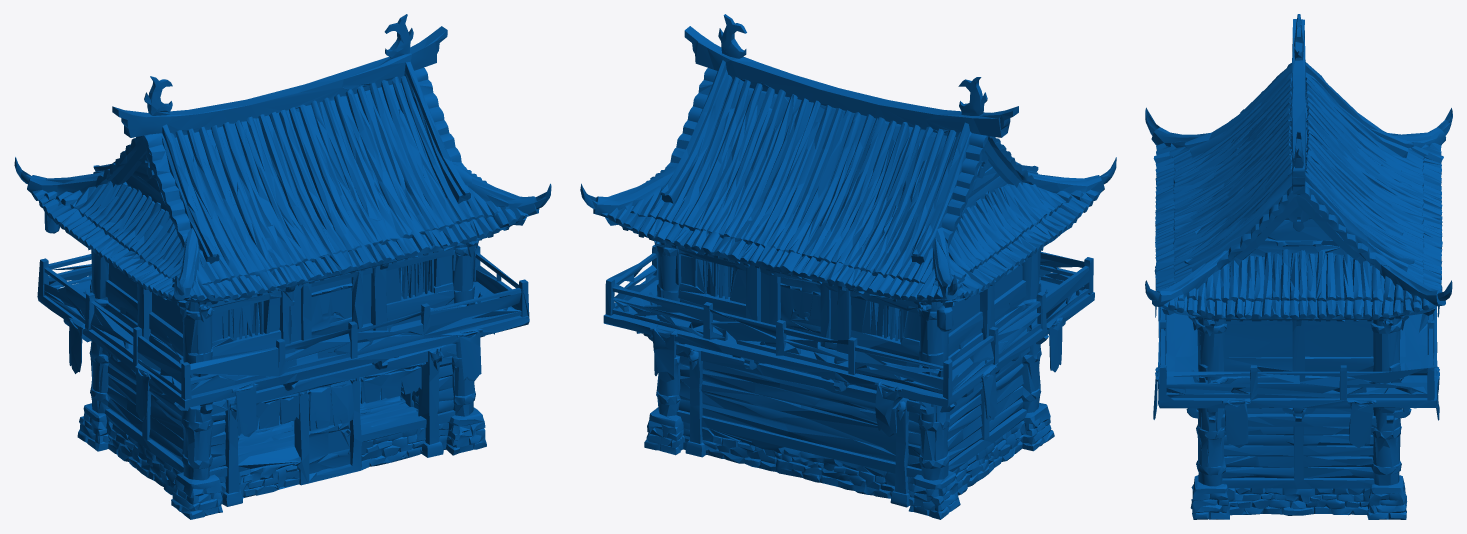
Rendered from house_bal_a.glb.
3 renders of one model, left to right at view 1: azimuth 30°, elevation 25°; view 2: azimuth 150°, elevation 25°; view 3: azimuth 270°, elevation 25°, orthographic. The views are drawn at different scales.
Visible parts, largest first — view 1: house_bal_a; view 2: house_bal_a; view 3: house_bal_a.
Boxes of the visible parts, box(x1,y1,x2,y2) form: house_bal_a: box(14, 14, 551, 519); house_bal_a: box(580, 14, 1116, 519); house_bal_a: box(1145, 14, 1452, 519).
Bounding box in the file's own units: 8.39 × 8.5 × 6.29.
1 material, 1 textured.
